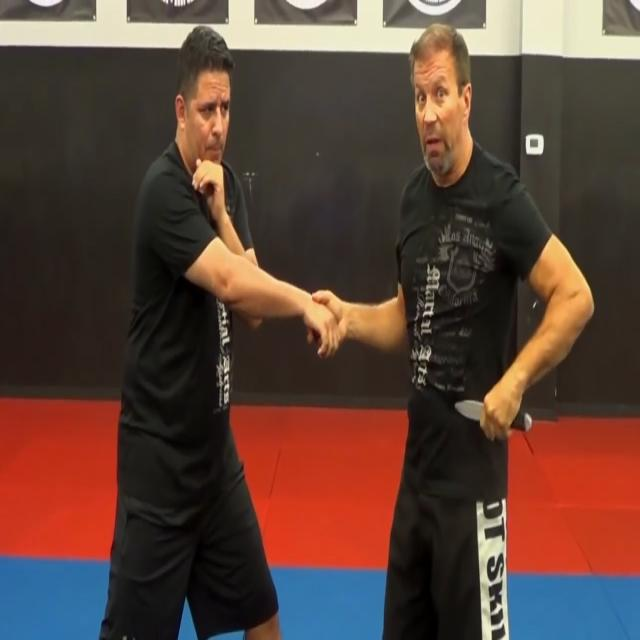knife: (456, 395, 536, 437)
